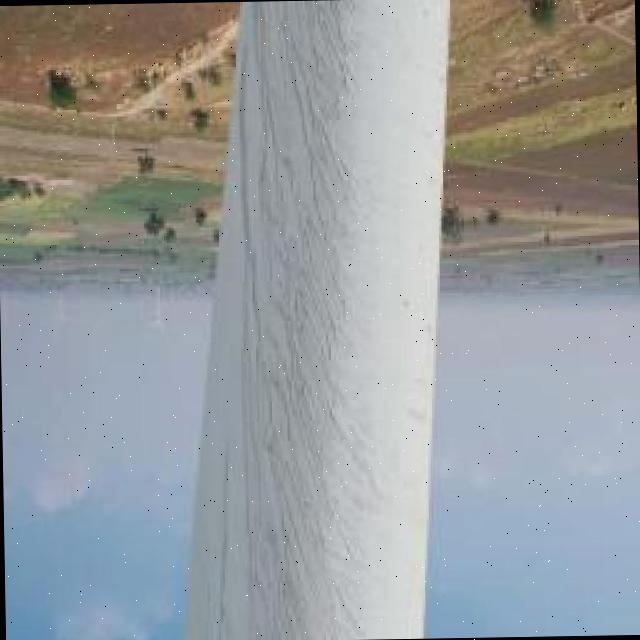Dirt: (216, 4, 433, 640)
